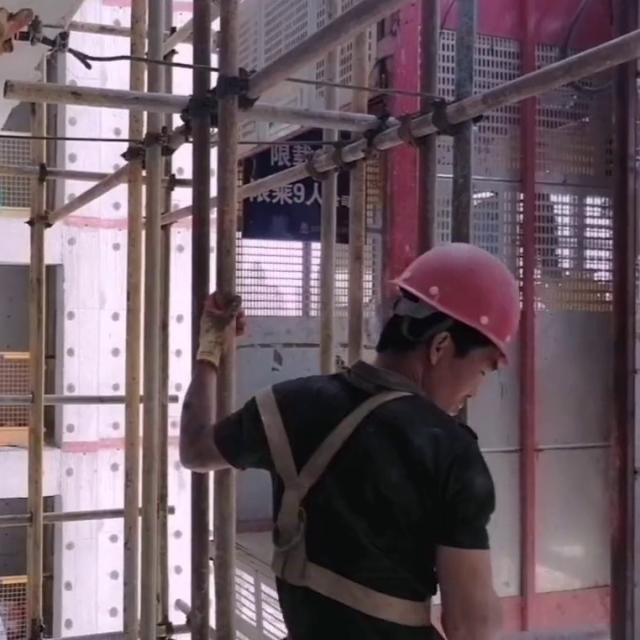Arnes_seguridad: (244, 353, 457, 632)
